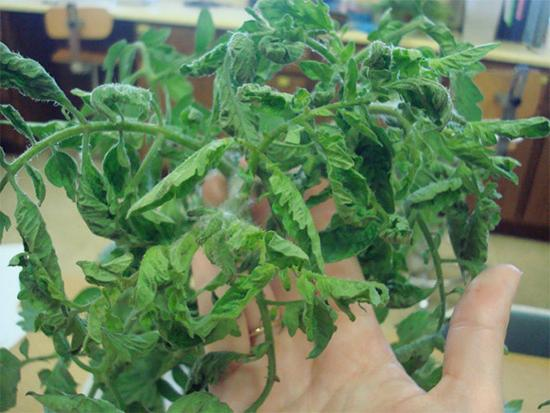Tomato leaf mosaic virus: (130, 132, 241, 216), (255, 151, 322, 271), (203, 264, 278, 322), (326, 142, 372, 229), (40, 149, 82, 202), (178, 43, 231, 80)
